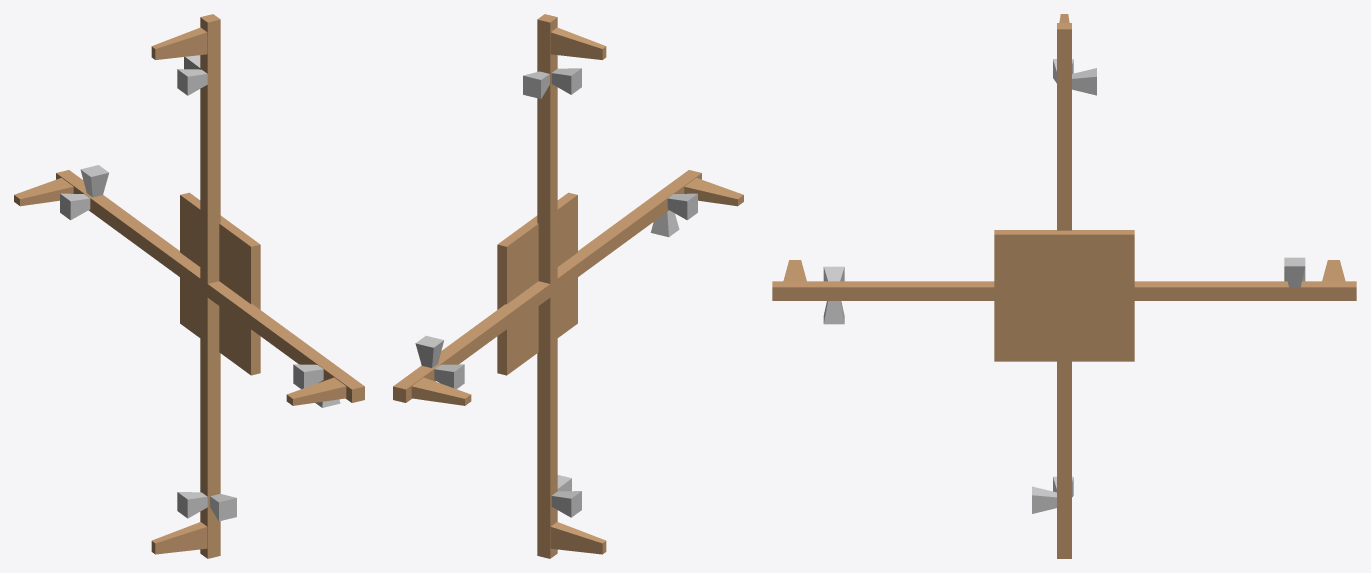
File: Quadcopter.fbx
The picture shows the model from 3 angles, left to right: view 1: azimuth 30°, elevation 25°; view 2: azimuth 150°, elevation 25°; view 3: azimuth 270°, elevation 25°; orthographic projection.
Visible parts, largest first — view 1: QuadcopterBody; view 2: QuadcopterBody; view 3: QuadcopterBody.
Boxes of the visible parts, x1=… form: QuadcopterBody: x1=14, y1=14, x2=364, y2=558; QuadcopterBody: x1=393, y1=14, x2=743, y2=558; QuadcopterBody: x1=772, y1=14, x2=1356, y2=558.
Bounding box in the file's own units: 0.9147 × 6.55 × 6.55.
